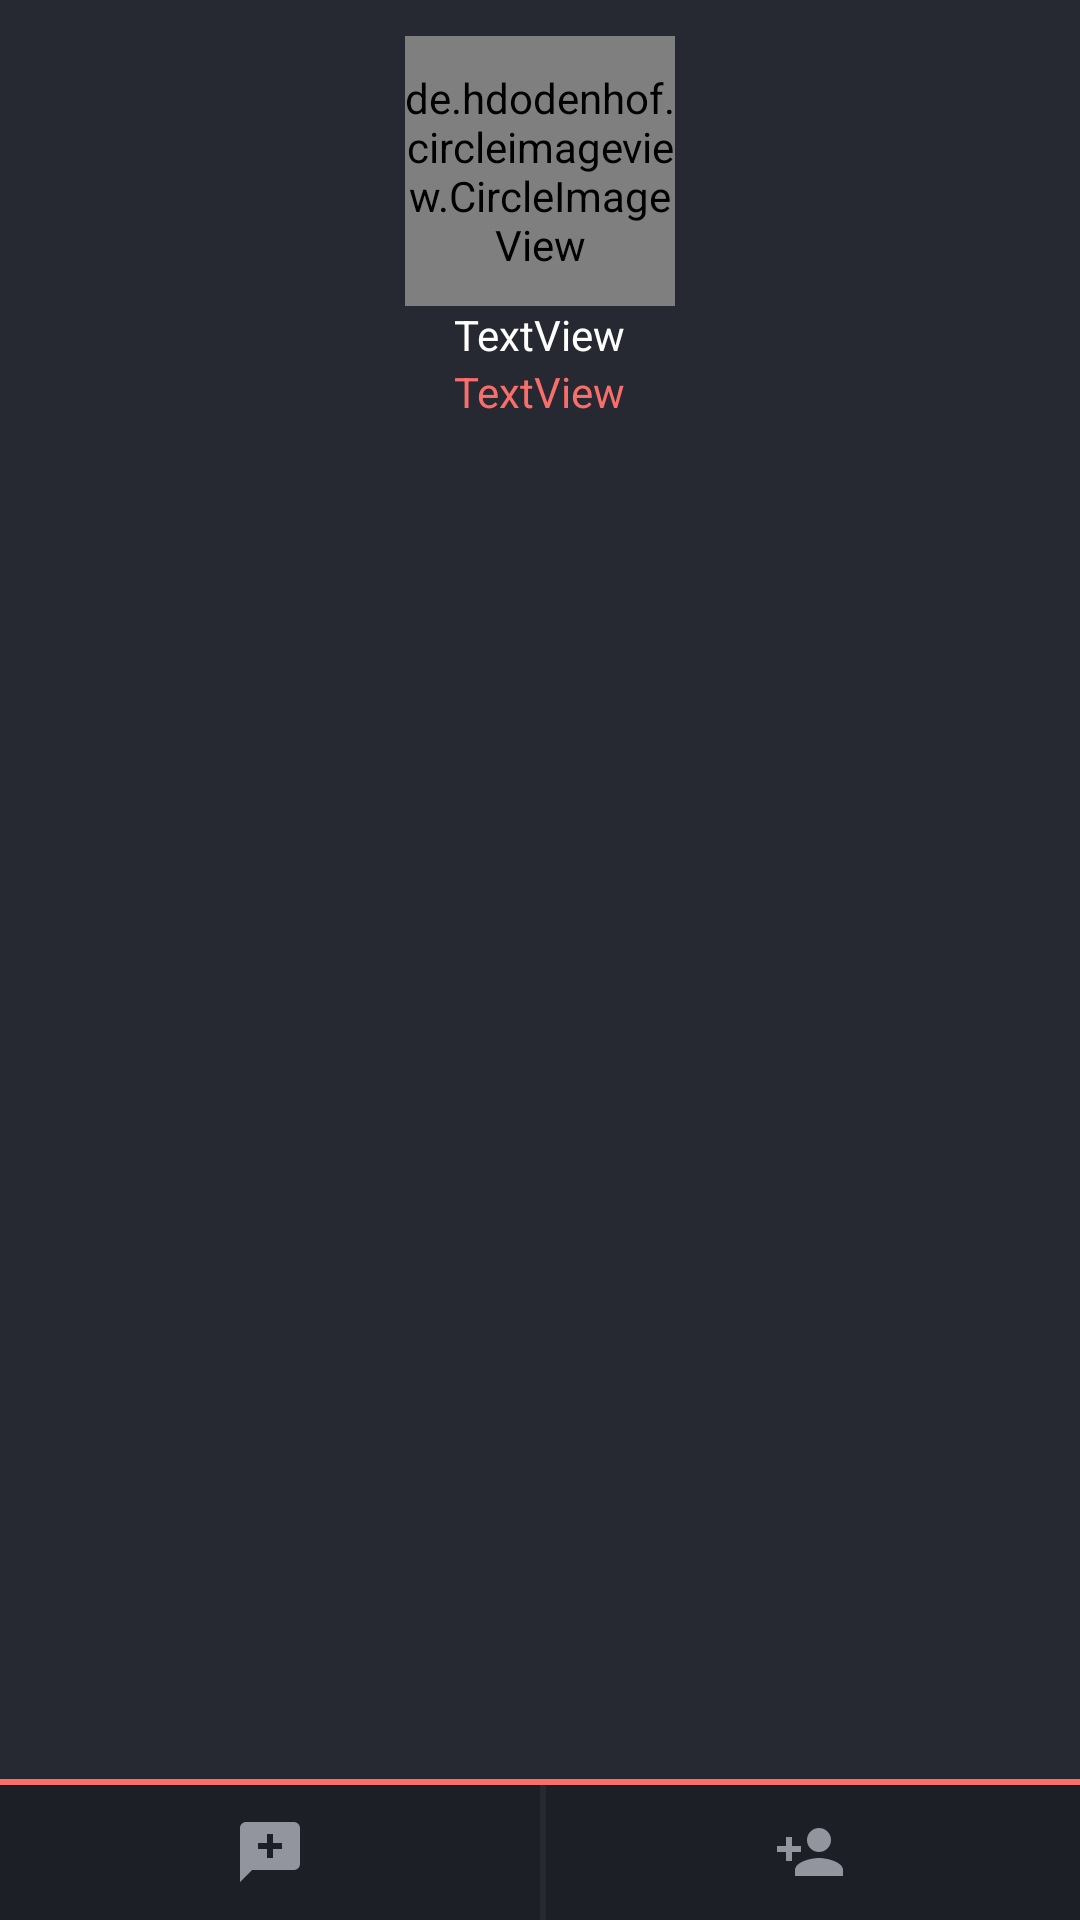

Locate icon controls on the screen. Image size 1080w x 1920h, boxes as [x1=x1, y1=y1, x2=x2, y2=y2].
account plus: [x1=777, y1=1828, x2=843, y2=1876]
message plus: [x1=240, y1=1822, x2=300, y2=1882]
